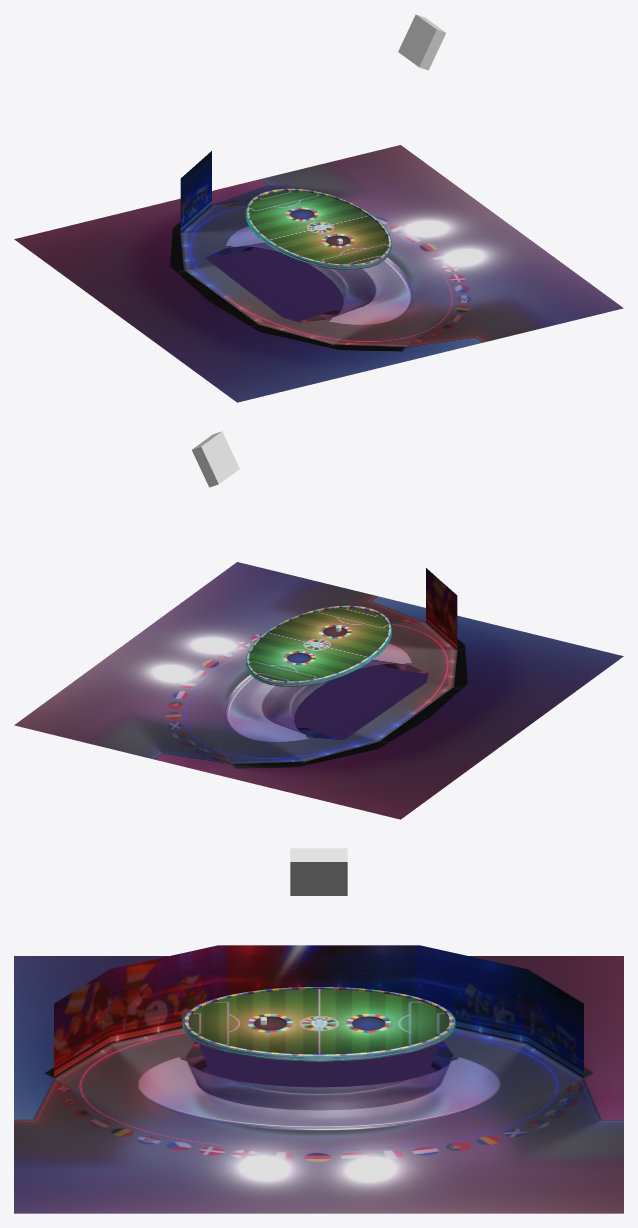
The model's file is dice rolling test alpha clip 3.glb.
3 renders of one model, top to bottom at view 1: azimuth 30°, elevation 25°; view 2: azimuth 150°, elevation 25°; view 3: azimuth 270°, elevation 25°, orthographic. The views are drawn at different scales.
Visible parts, largest first — view 1: table-edge, table, camera; view 2: table-edge, table, camera; view 3: table-edge, table, camera.
Part boxes in pixels (x1=…): table-edge: x1=14, y1=145, x2=623, y2=402; table: x1=245, y1=191, x2=391, y2=268; camera: x1=398, y1=14, x2=445, y2=70; table-edge: x1=14, y1=562, x2=623, y2=819; table: x1=246, y1=608, x2=392, y2=685; camera: x1=192, y1=431, x2=239, y2=487; table-edge: x1=14, y1=945, x2=623, y2=1213; table: x1=182, y1=989, x2=455, y2=1060; camera: x1=290, y1=848, x2=347, y2=895.
Size of the model in its own units: 21.21 by 11.97 by 21.21.
2 materials, 2 textured.
